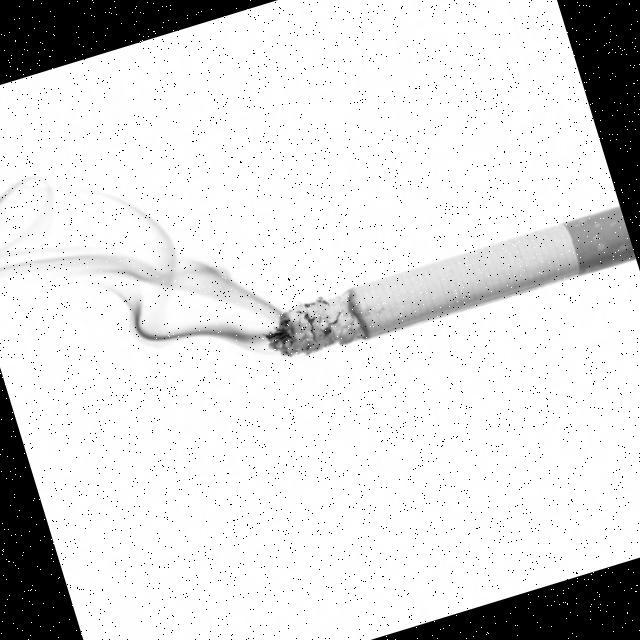cigarette: (256, 202, 629, 368)
